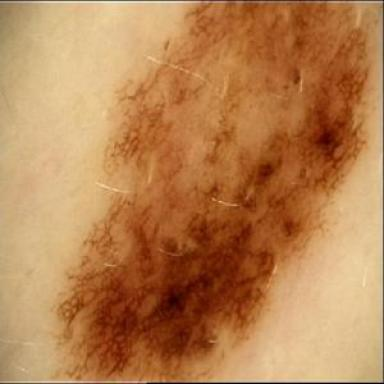Melanoma: (60, 4, 367, 378)
